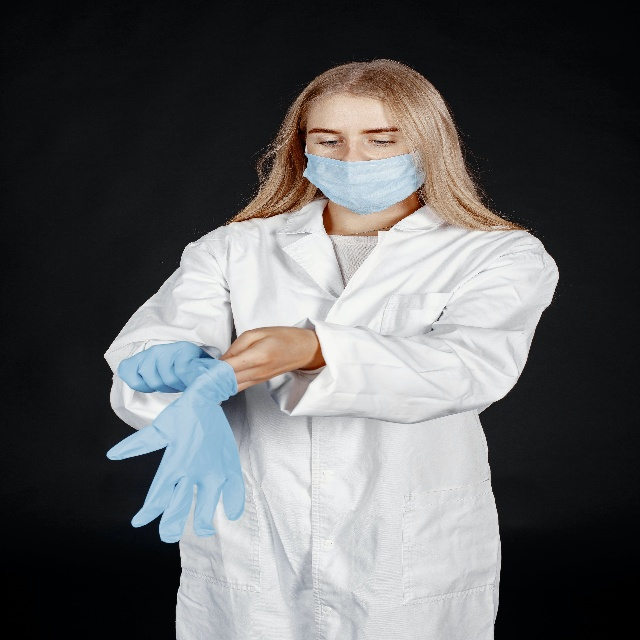Guantes: (102, 361, 246, 545), (117, 340, 211, 395)
Mascara: (302, 138, 426, 214)
Sin_guantes: (215, 318, 303, 395)
